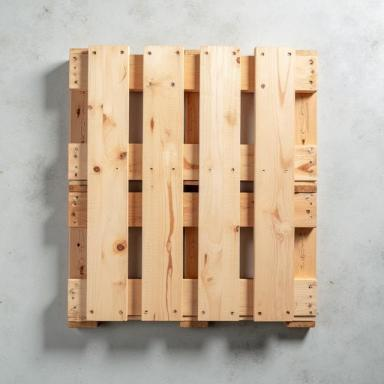pallet: (67, 45, 317, 328)
